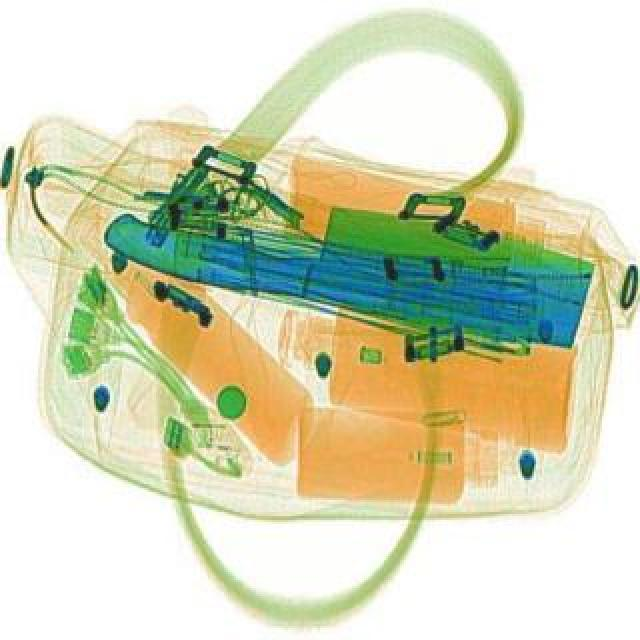knife: (96, 174, 596, 358)
